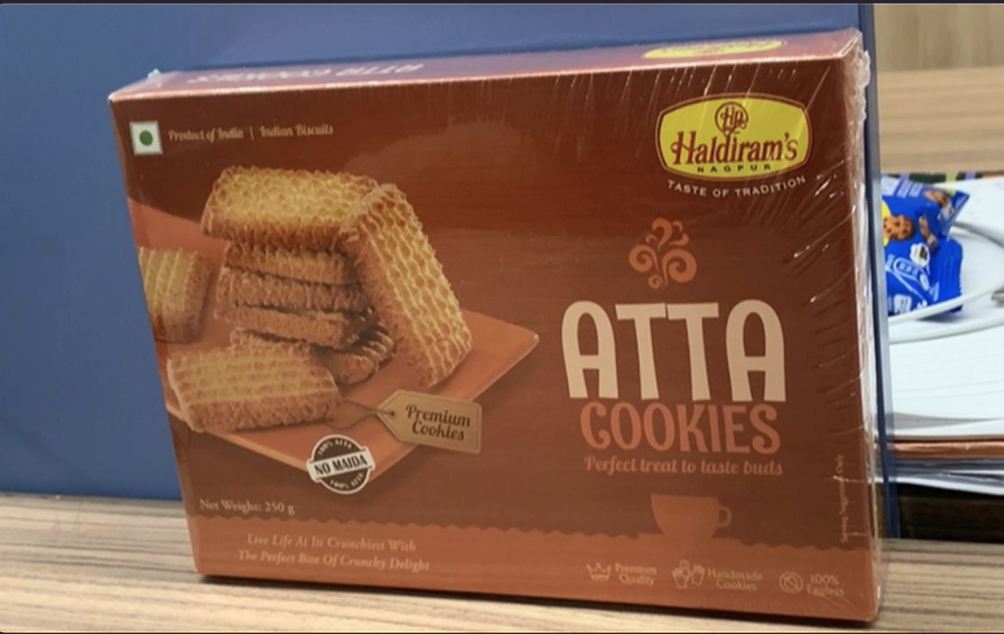cookies_200g-299g: (158, 110, 822, 509)
